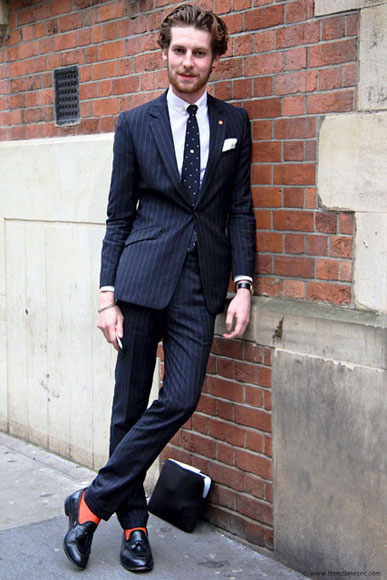F_M_suit jacket: (89, 89, 255, 309)
F_shirt: (168, 87, 210, 188)
F_tie: (183, 100, 203, 205)
